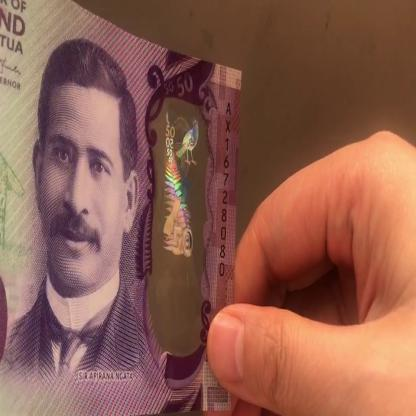50F: (160, 103, 200, 328)
